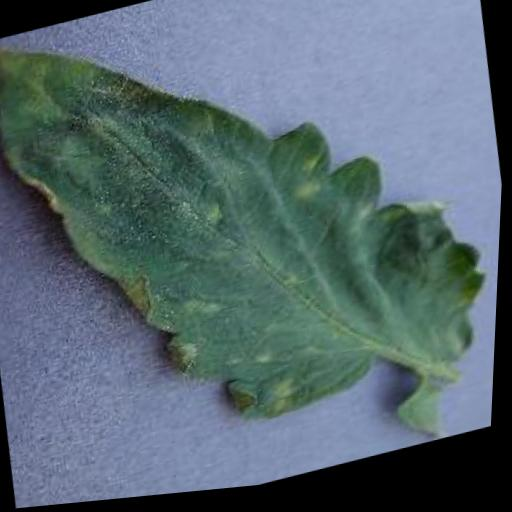Leaf Mold: (0, 0, 512, 498)
